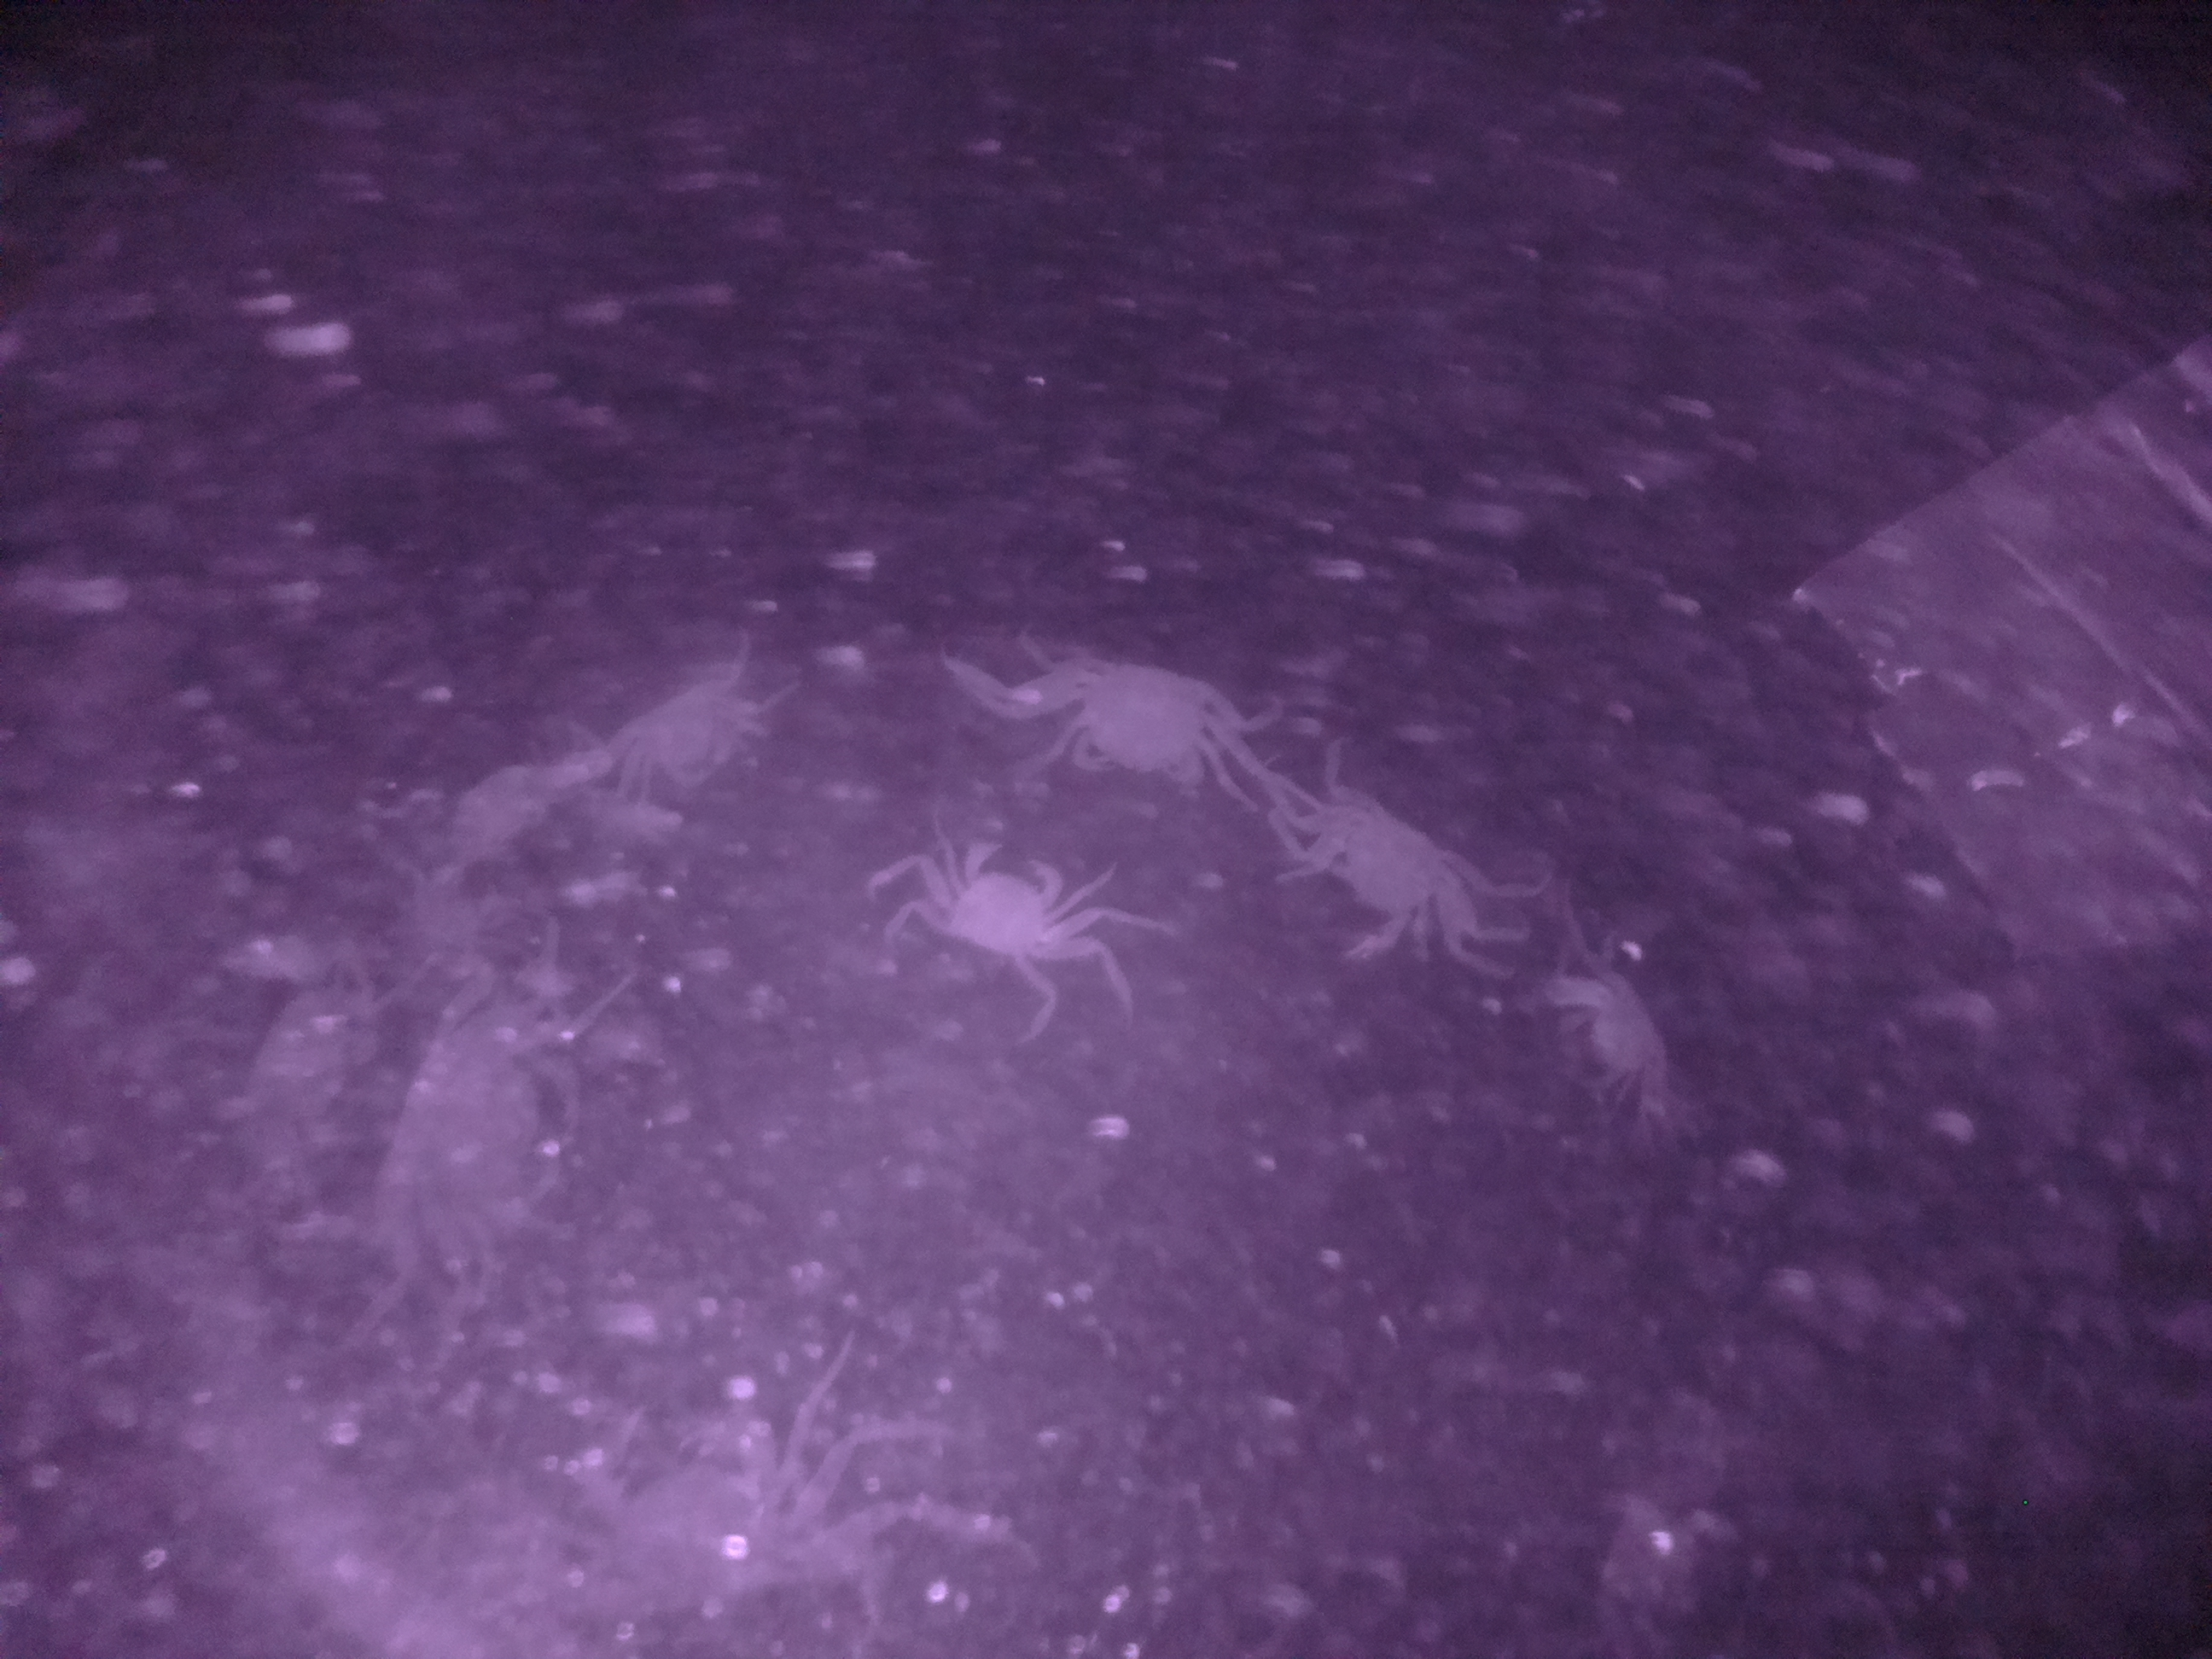Crab: (1247, 802, 1500, 974), (1026, 641, 1252, 807), (907, 840, 1103, 972)
